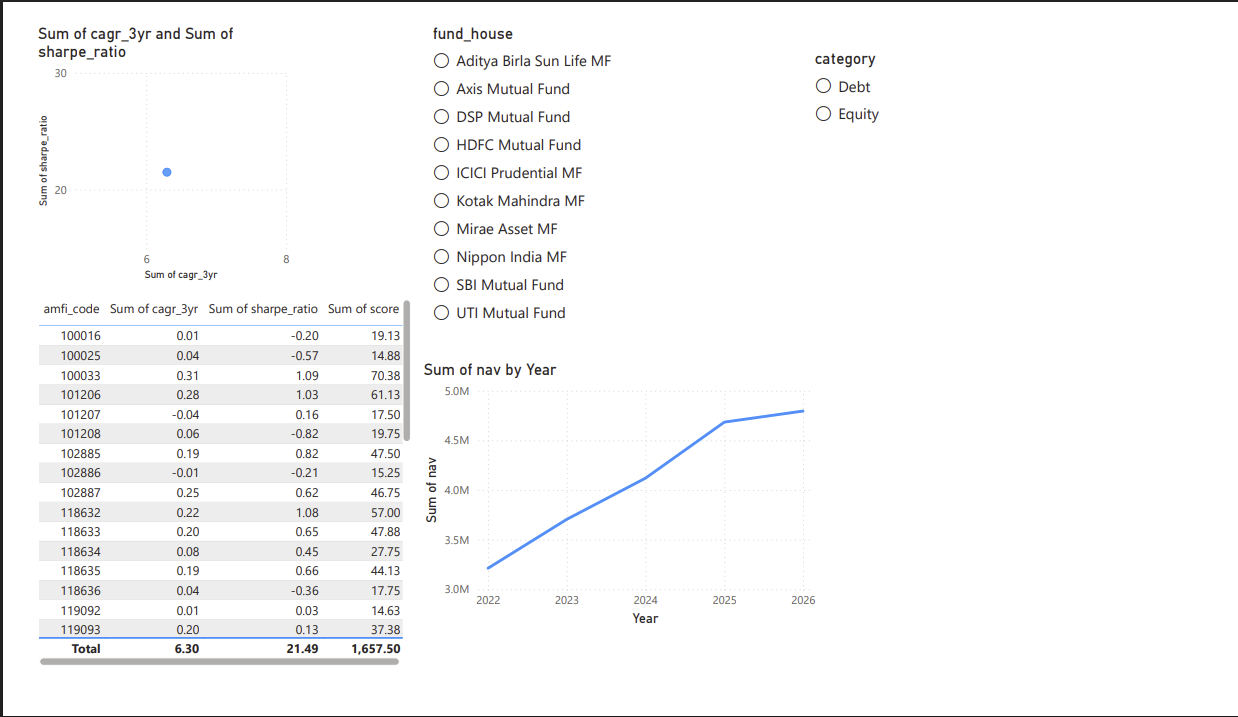

The dashboard page shown, as its layout file describes it:
{"tool":"powerbi","page":{"name":"Fund Performance","canvas":[1280,720],"ordinal":1},"visuals":[{"type":"scatterChart","fields":{"X":["Sum(fund_scorecard.cagr_3yr)"],"Y":["Sum(fund_scorecard.sharpe_ratio)"]},"box":[10,0,280,280],"z":0},{"type":"tableEx","fields":{"Values":["fund_scorecard.amfi_code","Sum(fund_scorecard.cagr_3yr)","Sum(fund_scorecard.sharpe_ratio)","Sum(fund_scorecard.score)"]},"box":[10,290,410,402.9],"z":1000},{"type":"lineChart","fields":{"Category":["clean_nav.date.Variation.Date Hierarchy.Year","clean_nav.date.Variation.Date Hierarchy.Quarter","clean_nav.date.Variation.Date Hierarchy.Month","clean_nav.date.Variation.Date Hierarchy.Day"],"Y":["Sum(clean_nav.nav)"]},"box":[424.3,360,430,290],"z":2000},{"type":"listSlicer","fields":{"Values":["clean_fund_master.fund_house"]},"box":[434.3,0,410,342.9],"z":3000},{"type":"listSlicer","fields":{"Values":["clean_fund_master.category"]},"box":[844.3,27.1,410,227.1],"z":4000}]}

Visuals, with their boxes in screenshot pixels (x1, y1, x2, y2), scaled from the page's 1280x720 canvas onto the 1238x717 screenshot:
scatterChart - Sum(fund_scorecard.cagr_3yr) x Sum(fund_scorecard.sharpe_ratio): <bbox>10, 0, 280, 279</bbox>
tableEx - fund_scorecard.amfi_code x Sum(fund_scorecard.cagr_3yr): <bbox>10, 289, 406, 690</bbox>
lineChart - clean_nav.date.Variation.Date Hierarchy.Year x clean_nav.date.Variation.Date Hierarchy.Quarter: <bbox>410, 358, 826, 647</bbox>
listSlicer - clean_fund_master.fund_house: <bbox>420, 0, 817, 341</bbox>
listSlicer - clean_fund_master.category: <bbox>817, 27, 1213, 253</bbox>
